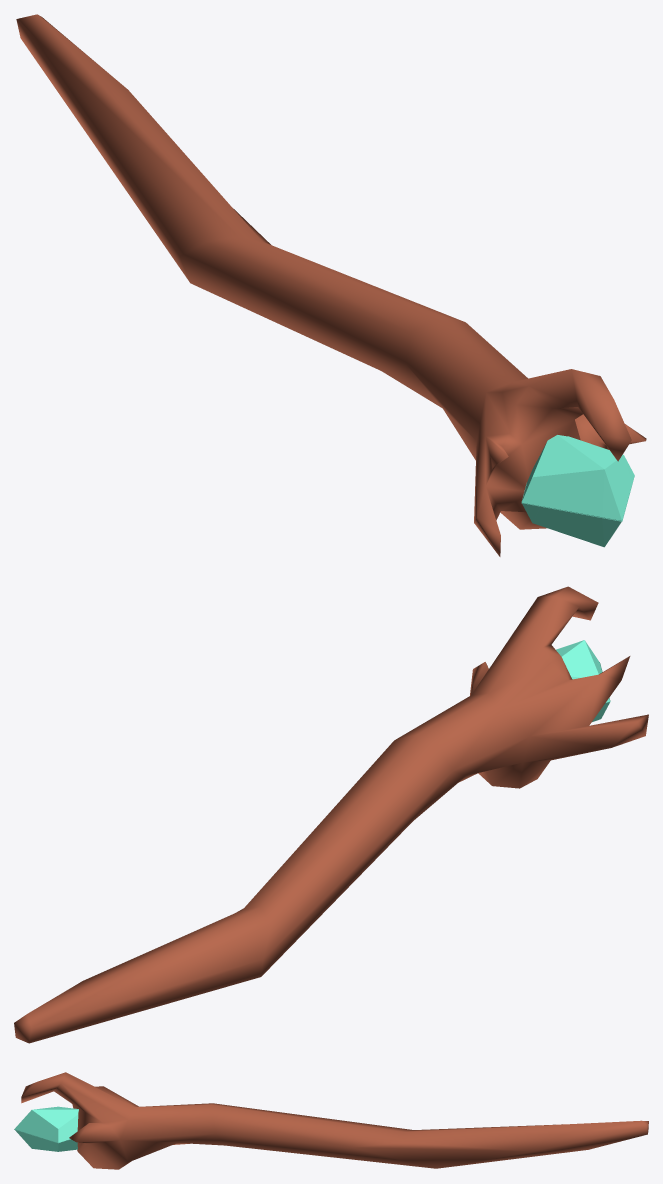
File: Staff.fbx
The picture shows the model from 3 angles, top to bottom: view 1: azimuth 30°, elevation 25°; view 2: azimuth 150°, elevation 25°; view 3: azimuth 270°, elevation 25°; orthographic projection. The views are drawn at different scales.
Visible parts, largest first — view 1: Cube.063, Cube.064; view 2: Cube.063, Cube.064; view 3: Cube.063, Cube.064.
Part boxes in pixels (bbox=[...]): Cube.063: bbox=[16, 14, 646, 556]; Cube.064: bbox=[521, 435, 634, 547]; Cube.063: bbox=[14, 586, 648, 1043]; Cube.064: bbox=[556, 640, 610, 721]; Cube.063: bbox=[21, 1072, 648, 1169]; Cube.064: bbox=[14, 1106, 78, 1151].
Bounding box in the file's own units: 113 × 111 × 689.
